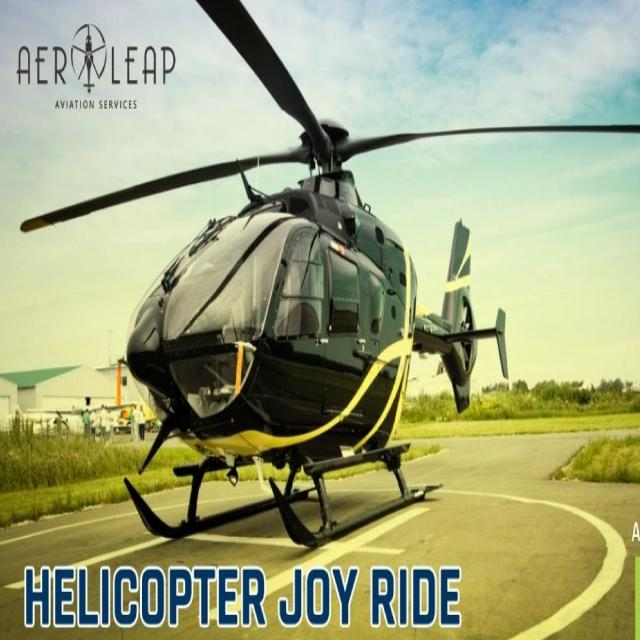helicopter: (14, 7, 640, 558)
